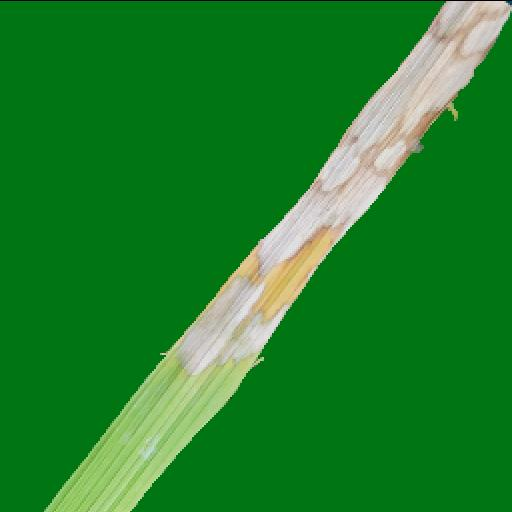Sheath Blight: (168, 2, 512, 394)
